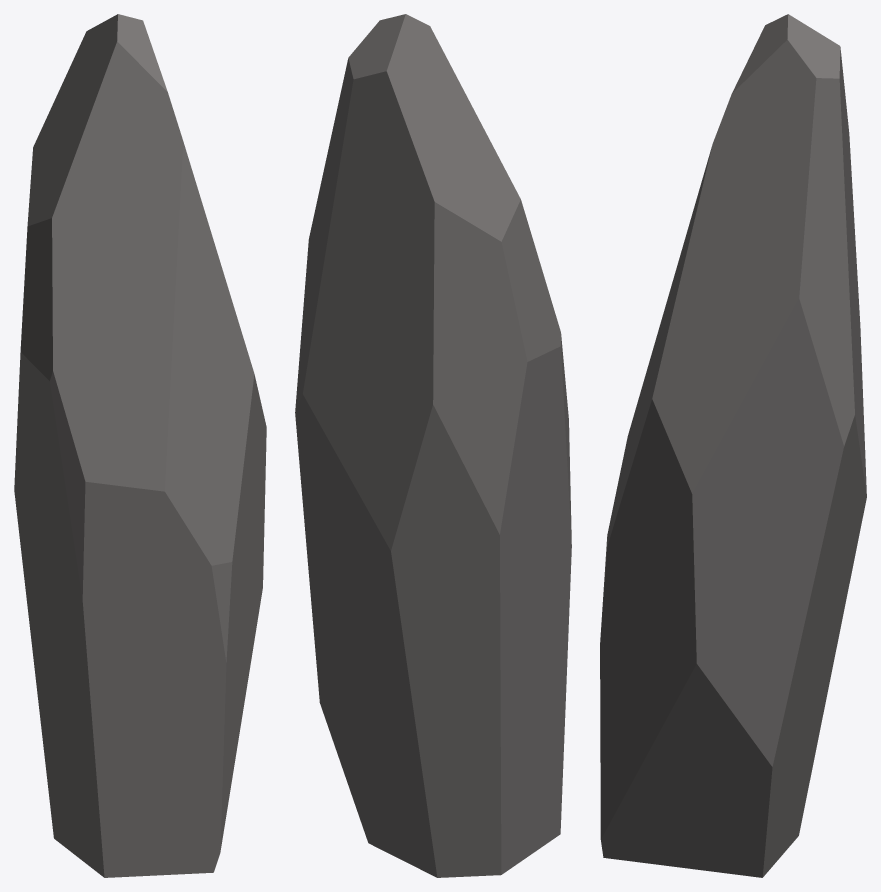
File: Rock_Sharp_m_09.fbx
3 renders of one model, left to right at view 1: azimuth 30°, elevation 25°; view 2: azimuth 150°, elevation 25°; view 3: azimuth 270°, elevation 25°, orthographic. The views are drawn at different scales.
Parts seen in each view (by area): view 1: Rock_Sharp_m_09; view 2: Rock_Sharp_m_09; view 3: Rock_Sharp_m_09.
Part boxes in pixels (<box>): Rock_Sharp_m_09: <box>14,14,266,877</box>; Rock_Sharp_m_09: <box>295,14,571,877</box>; Rock_Sharp_m_09: <box>600,14,866,877</box>.
Size of the model in its own units: 37.72 by 137 by 39.42.
